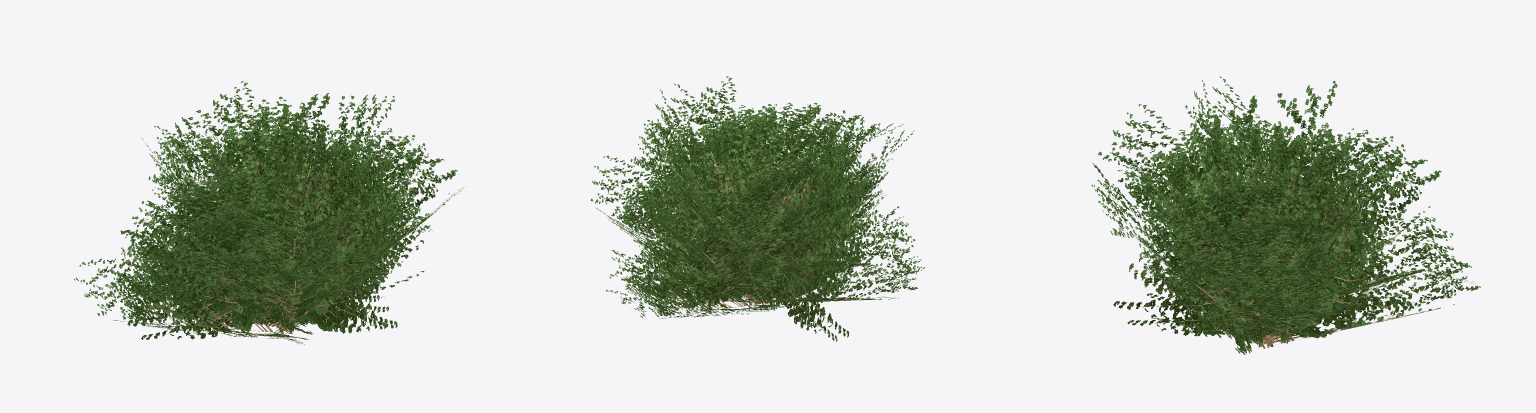
The model's file is genericBush_01.dae.
The picture shows the model from 3 angles, left to right: view 1: azimuth 30°, elevation 25°; view 2: azimuth 150°, elevation 25°; view 3: azimuth 270°, elevation 25°; orthographic projection. The views are drawn at different scales.
Visible parts, largest first — view 1: GenericBushOne256, GenericBushOne128; view 2: GenericBushOne256, GenericBushOne128; view 3: GenericBushOne256, GenericBushOne128.
Part boxes in pixels (box(x1,y1,x2,y2)): GenericBushOne256: box(79, 81, 451, 334); GenericBushOne128: box(74, 87, 463, 344); GenericBushOne256: box(601, 76, 915, 341); GenericBushOne128: box(590, 81, 924, 337); GenericBushOne256: box(1110, 76, 1473, 353); GenericBushOne128: box(1091, 80, 1480, 354).
Bounding box in the file's own units: 5.65 × 5.66 × 4.43.
